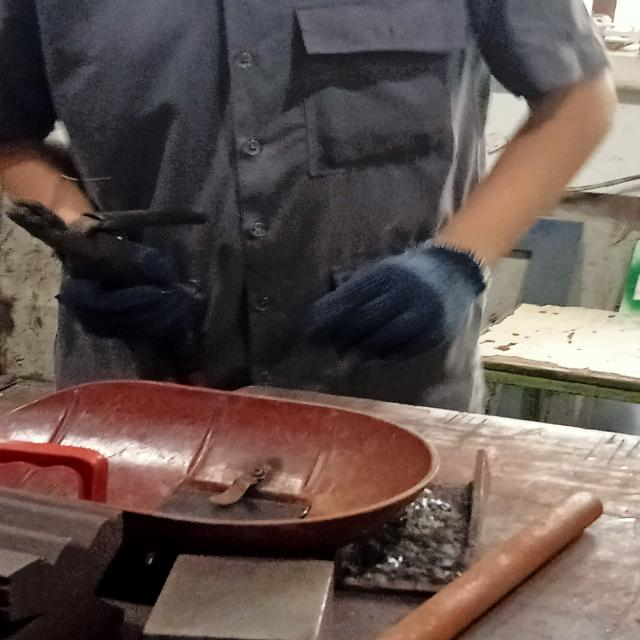Gloves-Detection: (322, 237, 485, 372)
